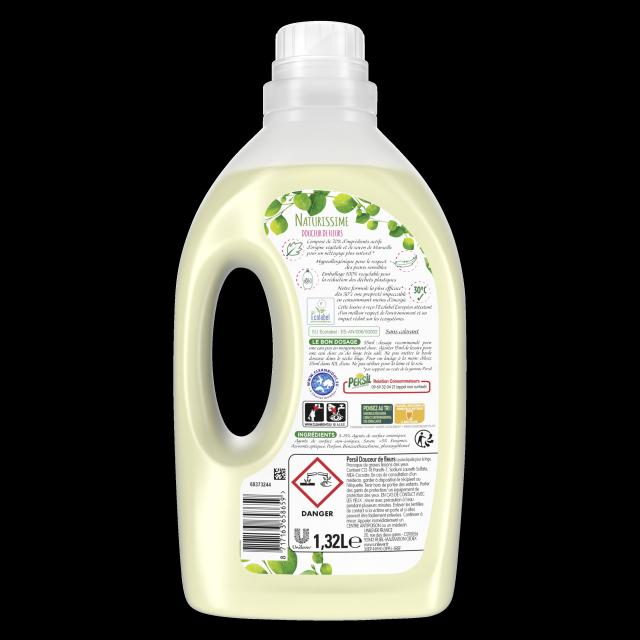GHS_Symbol_CORROSION: (290, 456, 344, 508)
